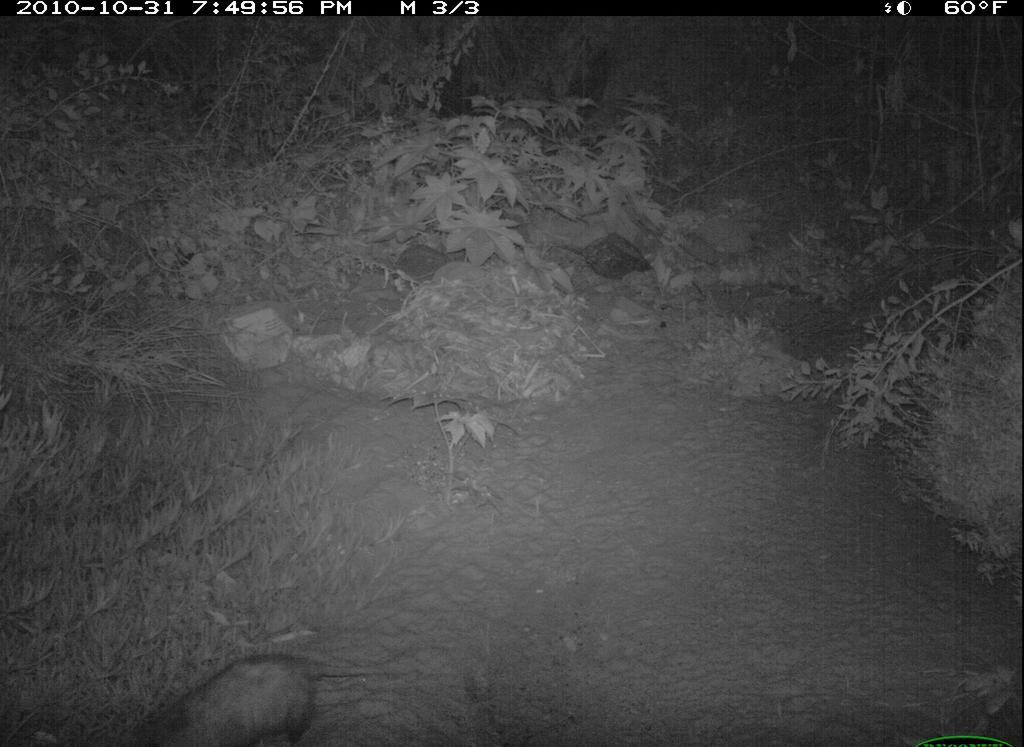opossum: (120, 643, 397, 747)
